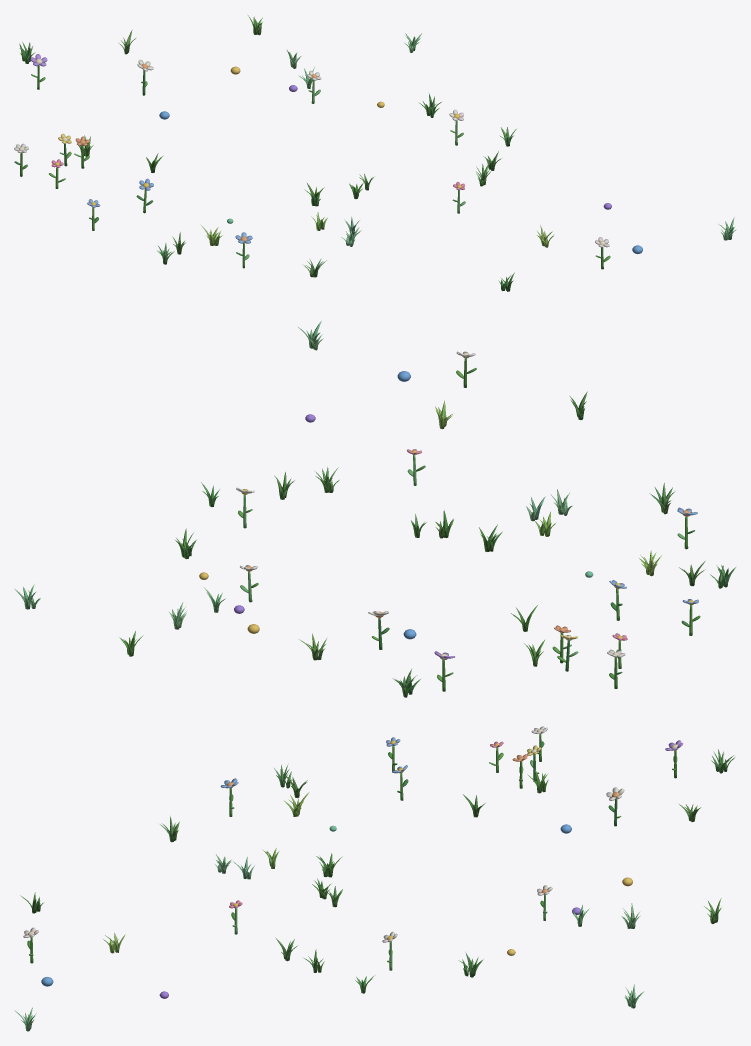
File: W4_FloraRing_11_11.fbx
3 views of the same model, one above another, from view 1: azimuth 30°, elevation 25°; view 2: azimuth 150°, elevation 25°; view 3: azimuth 270°, elevation 25° (orthographic). The views are drawn at different scales.
Parts seen in each view (by area): view 1: W4_FloraRing_11_11; view 2: W4_FloraRing_11_11; view 3: W4_FloraRing_11_11.
Boxes of the visible parts, bbox=[...] form: W4_FloraRing_11_11: bbox=[14, 15, 736, 291]; W4_FloraRing_11_11: bbox=[15, 321, 735, 697]; W4_FloraRing_11_11: bbox=[14, 726, 735, 1031].
Bounding box in the file's own units: 3.44 × 0.4442 × 3.95.
